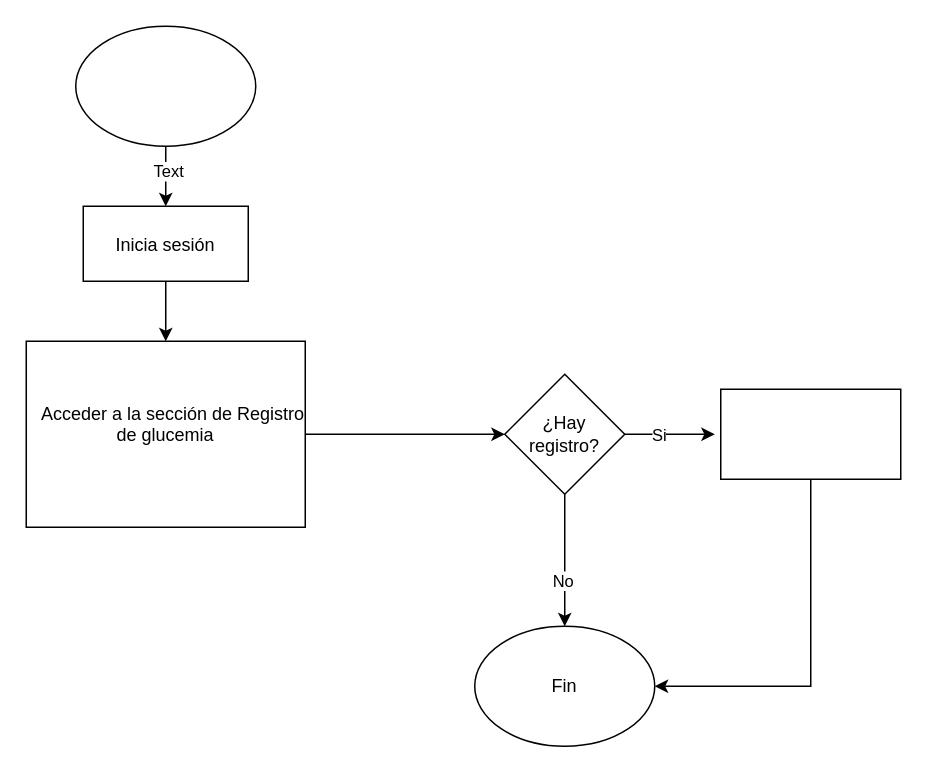
The diagram is 927 pixels wide and 773 high, and some of its shapes have lost their labels. Each missing label, with the box of its shape:
Inicio: (74, 25, 256, 146)
Muestra Registro de glucemia: (719, 388, 901, 479)
